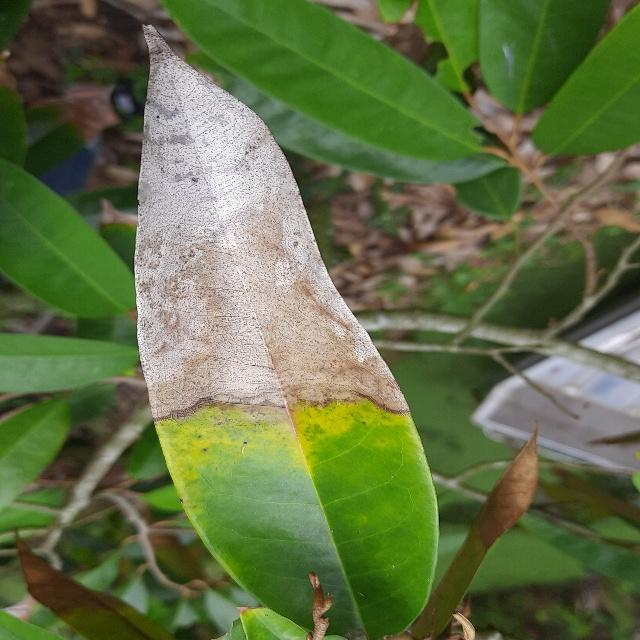Leaf Blight: (127, 17, 449, 640)
